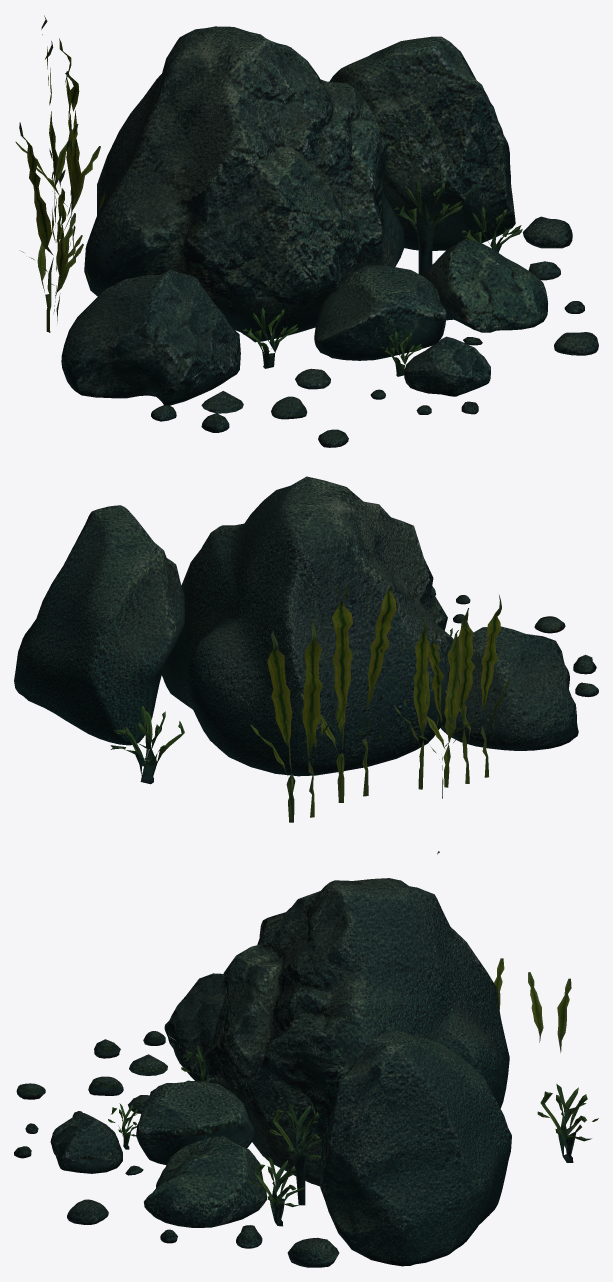
Rendered from rocks1.glb.
3 views of the same model, one above another, from view 1: azimuth 30°, elevation 25°; view 2: azimuth 150°, elevation 25°; view 3: azimuth 270°, elevation 25° (orthographic). The views are drawn at different scales.
Parts seen in each view (by area): view 1: 34c51721-a34a-4896-a6cd-fa62d1071f4d; view 2: 34c51721-a34a-4896-a6cd-fa62d1071f4d; view 3: 34c51721-a34a-4896-a6cd-fa62d1071f4d.
Part boxes in pixels (left/top/right/bottom): 34c51721-a34a-4896-a6cd-fa62d1071f4d: left=15, top=15, right=598, bottom=447; 34c51721-a34a-4896-a6cd-fa62d1071f4d: left=14, top=476, right=598, bottom=822; 34c51721-a34a-4896-a6cd-fa62d1071f4d: left=14, top=851, right=598, bottom=1267.
Bounding box in the file's own units: 0.9995 × 0.4966 × 0.9995.
1 material, 1 textured.
